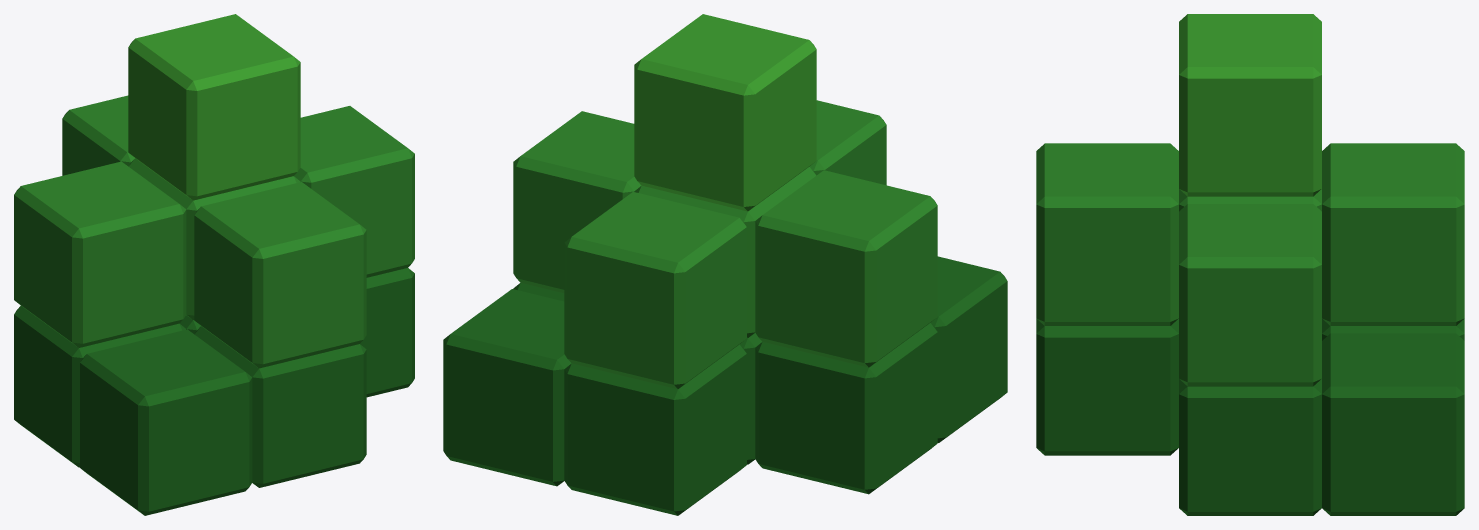
File: round-bush.glb
3 renders of one model, left to right at view 1: azimuth 30°, elevation 25°; view 2: azimuth 150°, elevation 25°; view 3: azimuth 270°, elevation 25°, orthographic. The views are drawn at different scales.
Visible parts, largest first — view 1: Voxel cell -1 0 1, Voxel cell -1 1 0, Voxel cell 0 2 0, Voxel cell 0 1 1, Voxel cell 0 0 1, Voxel cell 1 1 0, Voxel cell -1 0 0, Voxel cell 1 0 0, Voxel cell 0 1 -1, Voxel cell 0 1 0; view 2: Voxel cell 0 1 -1, Voxel cell 0 2 0, Voxel cell -1 1 0, Voxel cell 0 0 -1, Voxel cell -1 0 0, Voxel cell 1 0 -1, Voxel cell 1 1 0, Voxel cell -1 0 1, Voxel cell 0 1 1, Voxel cell 0 1 0, Voxel cell 0 0 0; view 3: Voxel cell 0 1 1, Voxel cell 0 1 -1, Voxel cell 1 0 -1, Voxel cell 1 1 0, Voxel cell 0 2 0, Voxel cell 1 0 0, Voxel cell 0 0 1, Voxel cell 0 1 0, Voxel cell 0 0 -1.
Boxes of the visible parts, <box> form: Voxel cell -1 0 1: <box>80,329,252,515</box>; Voxel cell -1 1 0: <box>14,161,186,347</box>; Voxel cell 0 2 0: <box>128,14,300,200</box>; Voxel cell 0 1 1: <box>194,182,366,368</box>; Voxel cell 0 0 1: <box>194,326,366,487</box>; Voxel cell 1 1 0: <box>294,106,414,277</box>; Voxel cell -1 0 0: <box>14,306,186,467</box>; Voxel cell 1 0 0: <box>360,268,414,397</box>; Voxel cell 0 1 -1: <box>62,95,134,175</box>; Voxel cell 0 1 0: <box>128,158,300,319</box>; Voxel cell 0 1 -1: <box>564,192,746,389</box>; Voxel cell 0 2 0: <box>634,14,816,211</box>; Voxel cell -1 1 0: <box>755,170,937,367</box>; Voxel cell 0 0 -1: <box>564,344,746,515</box>; Voxel cell -1 0 0: <box>755,323,937,494</box>; Voxel cell 1 0 -1: <box>443,289,571,486</box>; Voxel cell 1 1 0: <box>513,111,641,293</box>; Voxel cell -1 0 1: <box>930,256,1007,442</box>; Voxel cell 0 1 1: <box>809,100,886,185</box>; Voxel cell 0 1 0: <box>634,167,816,337</box>; Voxel cell 0 0 0: <box>740,333,762,464</box>; Voxel cell 0 1 1: <box>1036,143,1178,325</box>; Voxel cell 0 1 -1: <box>1322,143,1464,325</box>; Voxel cell 1 0 -1: <box>1322,333,1464,515</box>; Voxel cell 1 1 0: <box>1179,204,1321,386</box>; Voxel cell 0 2 0: <box>1179,14,1321,196</box>; Voxel cell 1 0 0: <box>1179,379,1321,515</box>; Voxel cell 0 0 1: <box>1036,319,1178,455</box>; Voxel cell 0 1 0: <box>1179,189,1321,211</box>; Voxel cell 0 0 -1: <box>1322,319,1464,340</box>.
Bounding box in the file's own units: 0.75 × 0.75 × 0.75.
